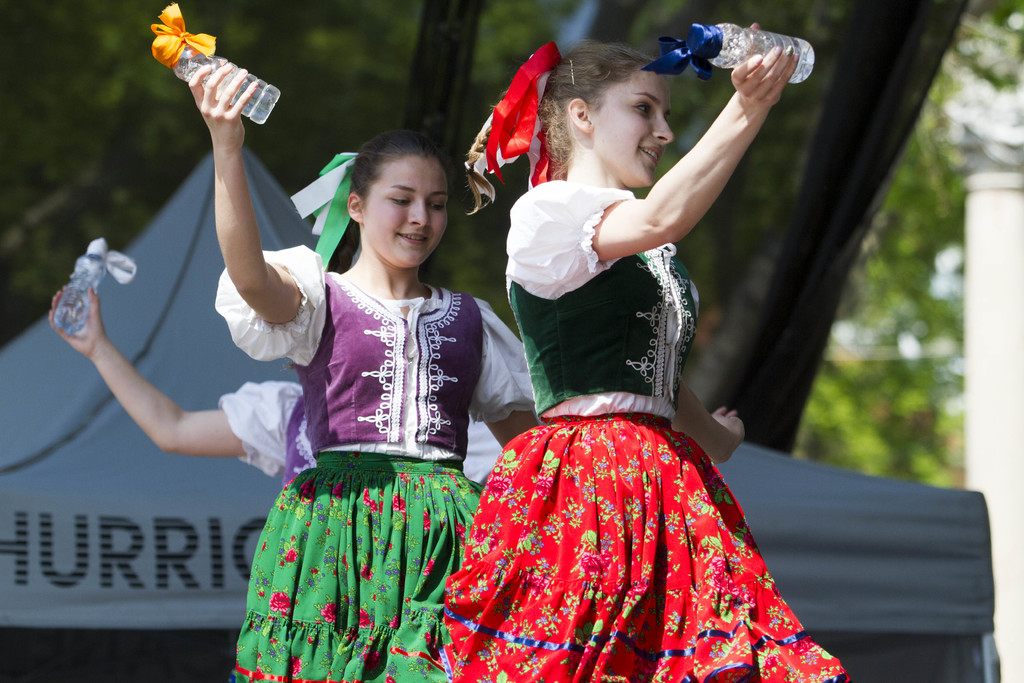Human_hand: (187, 58, 259, 147), (731, 21, 801, 106), (48, 283, 107, 360), (712, 407, 747, 465)
